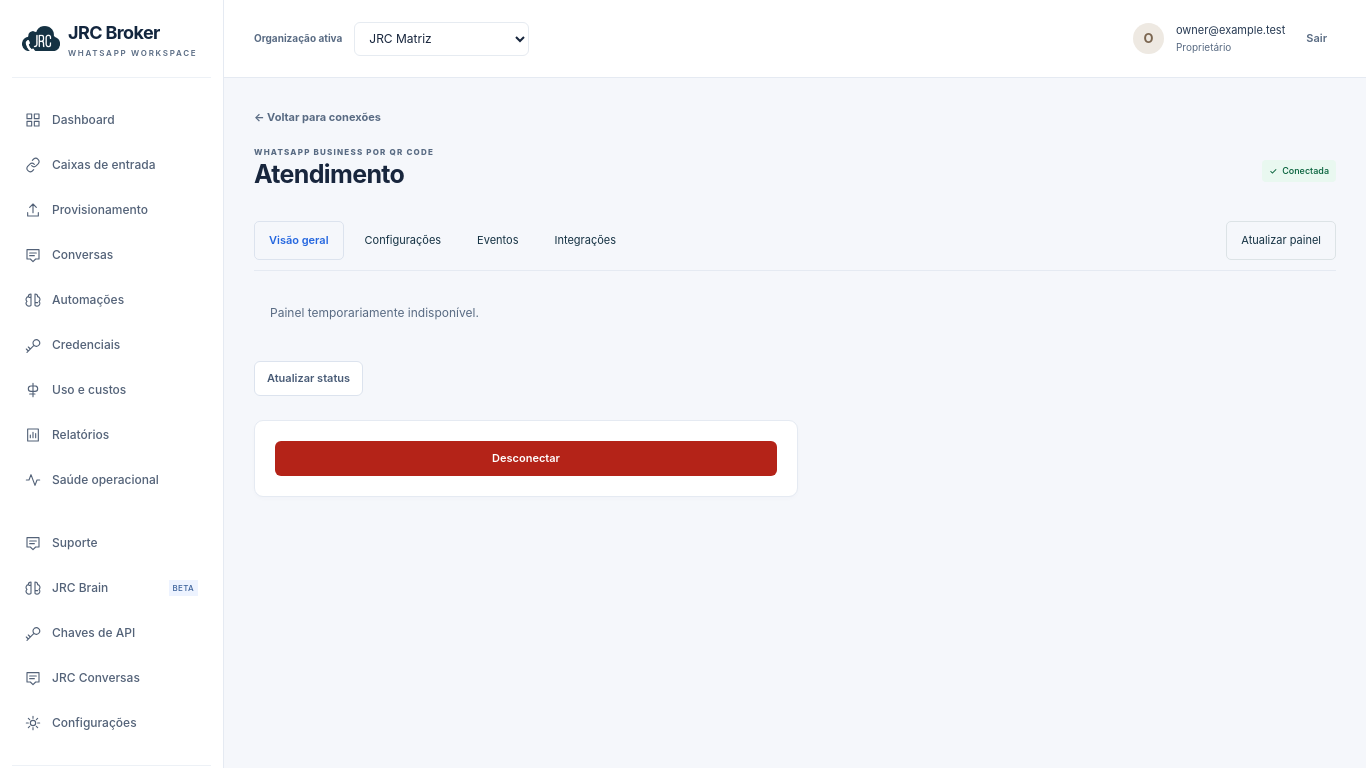
it: ConnectionDetailPage › consulta manualmente o provider mesmo quando o estado local é terminal
The image size is (1366, 768).
Expected: the text "Conectada" is shown, [1282, 165, 1329, 176]
Click the button "Atualizar status" at (309, 378), box [254, 361, 363, 396]
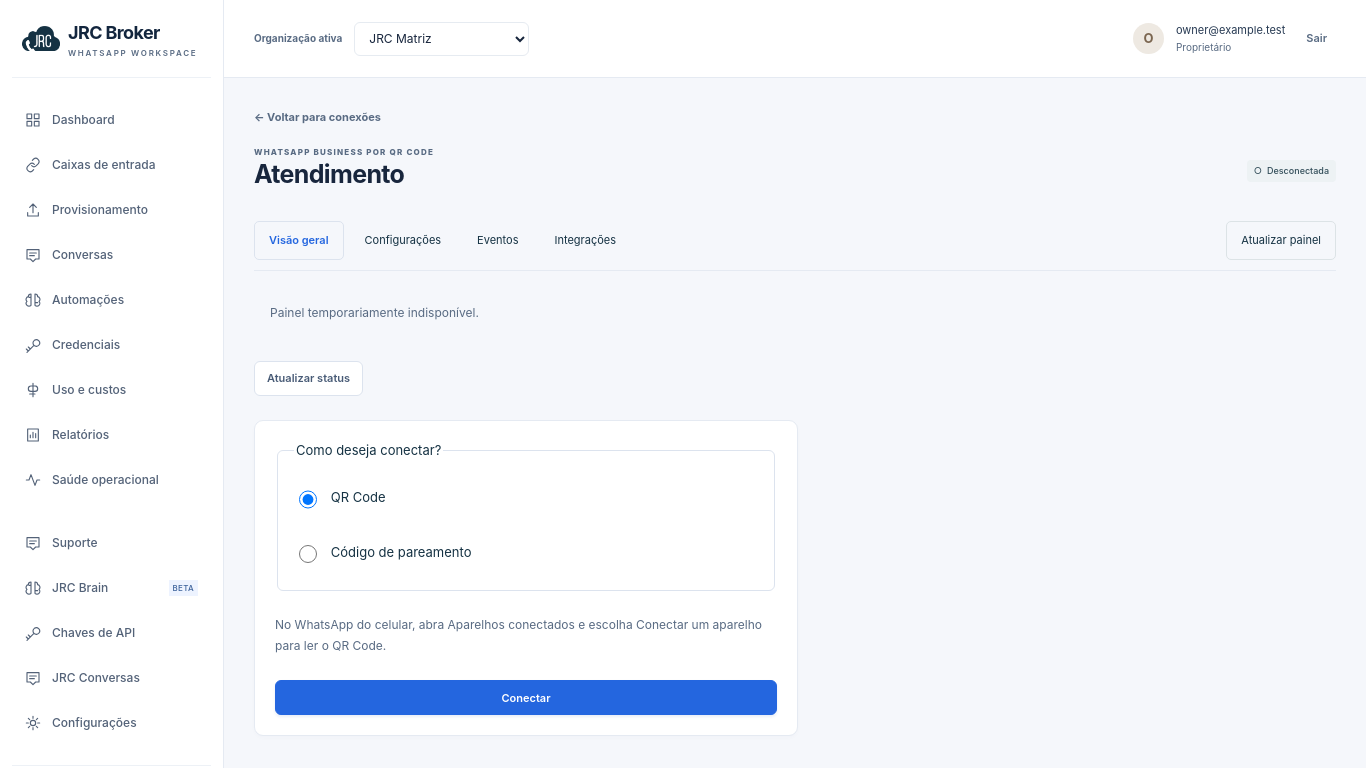
Expected: the text "Desconectada" is shown, [1267, 165, 1329, 176]
